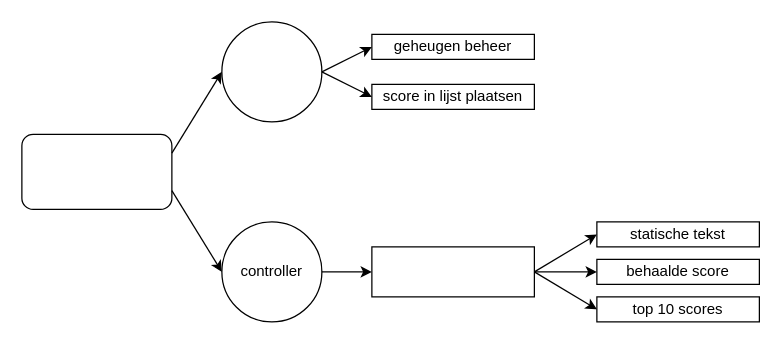
This 781x344 diagram has some shape labels left out. Here are the shapes that lost their labels. From the top down, the box of each, then its label:
(221, 21, 322, 122): model
(21, 133, 172, 209): game-over-scene
(371, 246, 534, 297): gegevens op het scherm zetten
